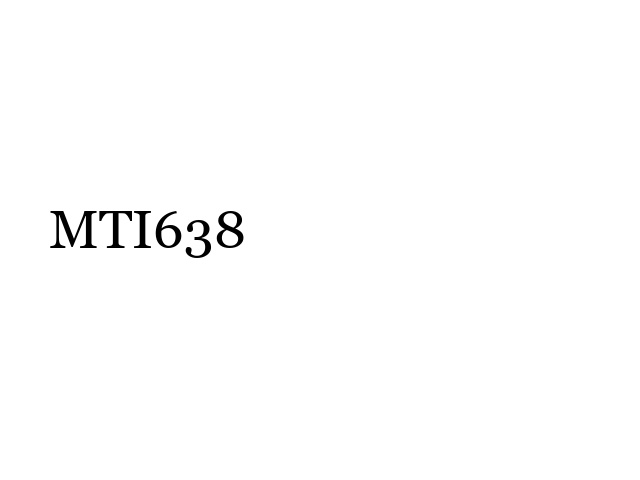OCR_AREA: (45, 207, 250, 262)
